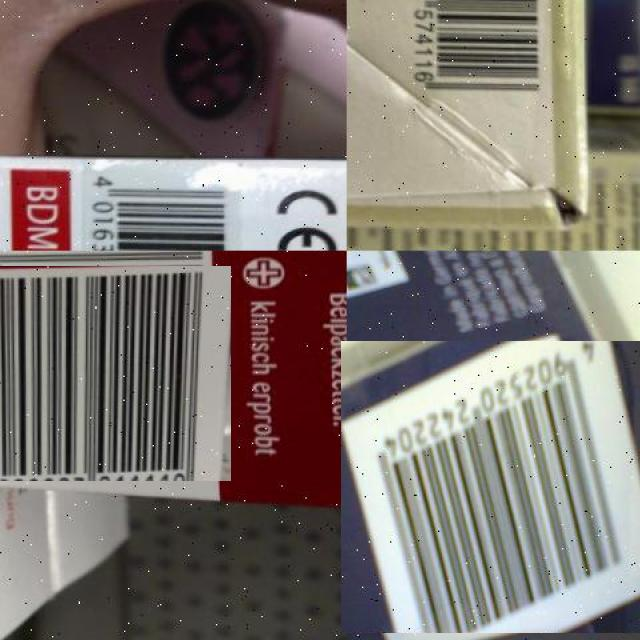Barcode: (344, 338, 640, 637), (0, 259, 224, 490), (404, 0, 555, 107), (80, 169, 245, 251)
